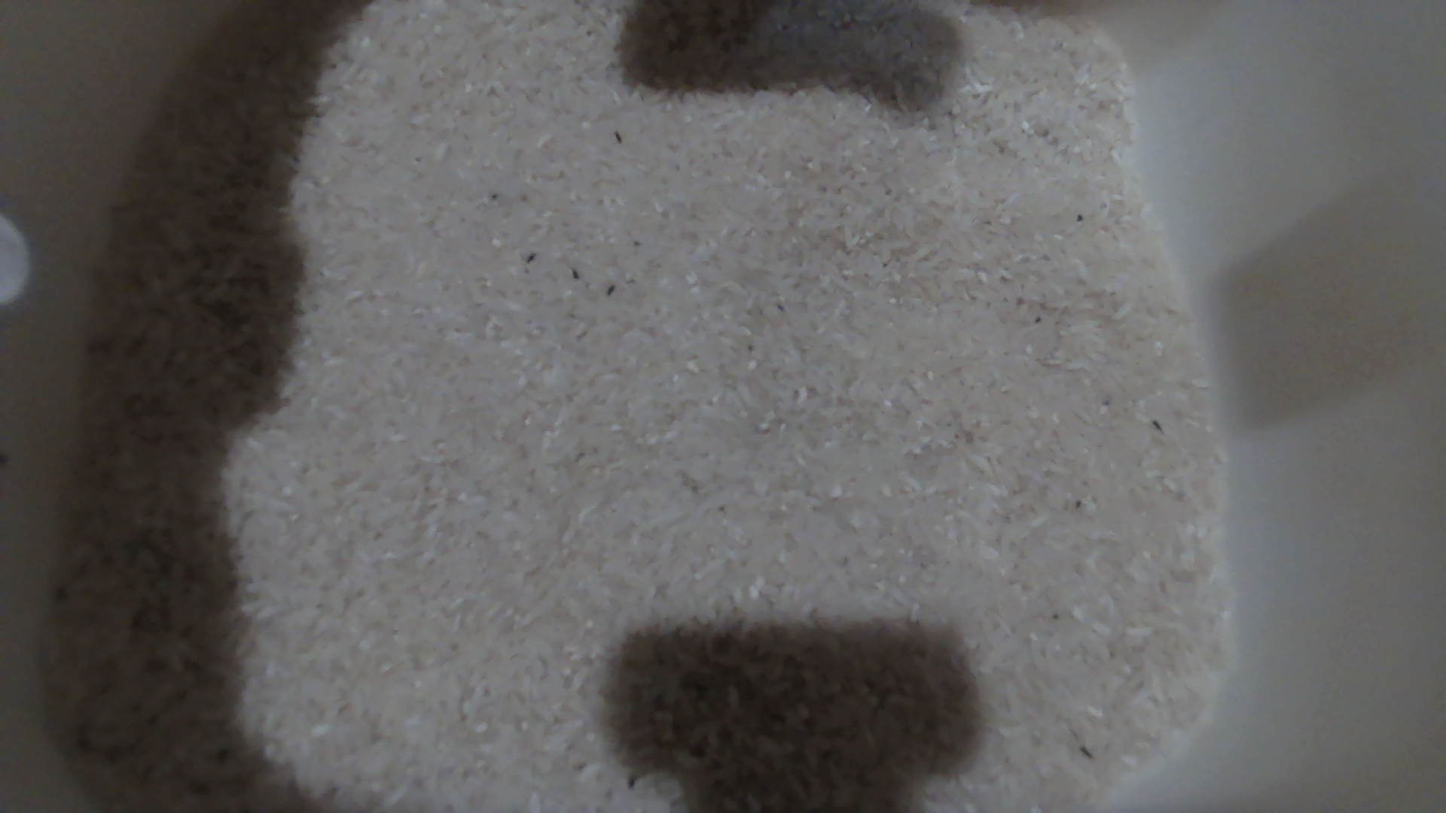Sitophilus-Oryzae: (1152, 420, 1164, 432), (572, 268, 581, 279), (526, 252, 535, 263), (607, 285, 616, 295), (614, 131, 622, 142)
